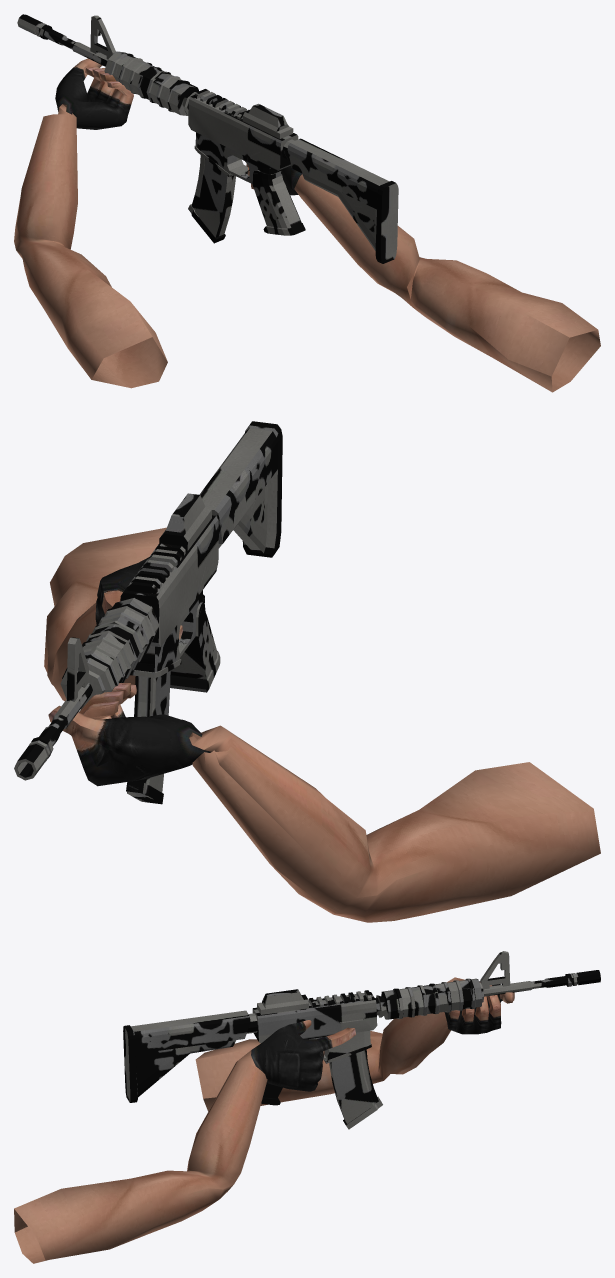
Rendered from gun_rifle.glb.
3 renders of one model, top to bottom at view 1: azimuth 30°, elevation 25°; view 2: azimuth 150°, elevation 25°; view 3: azimuth 270°, elevation 25°, orthographic. The views are drawn at different scales.
Visible parts, largest first — view 1: body_ARMS, body_QUATP, mag_QUATP; view 2: body_ARMS, body_QUATP, mag_QUATP; view 3: body_ARMS, body_QUATP, mag_QUATP.
Part boxes in pixels (<box>): body_ARMS: <box>14,58,600,392</box>; body_QUATP: <box>17,14,398,263</box>; mag_QUATP: <box>188,155,235,243</box>; body_ARMS: <box>44,527,600,922</box>; body_QUATP: <box>14,421,282,780</box>; mag_QUATP: <box>126,670,170,804</box>; body_ARMS: <box>14,977,514,1263</box>; body_QUATP: <box>123,951,600,1105</box>; mag_QUATP: <box>329,1049,382,1129</box>.
Bounding box in the file's own units: 78.6 × 41.62 × 103.
2 materials, 2 textured.
